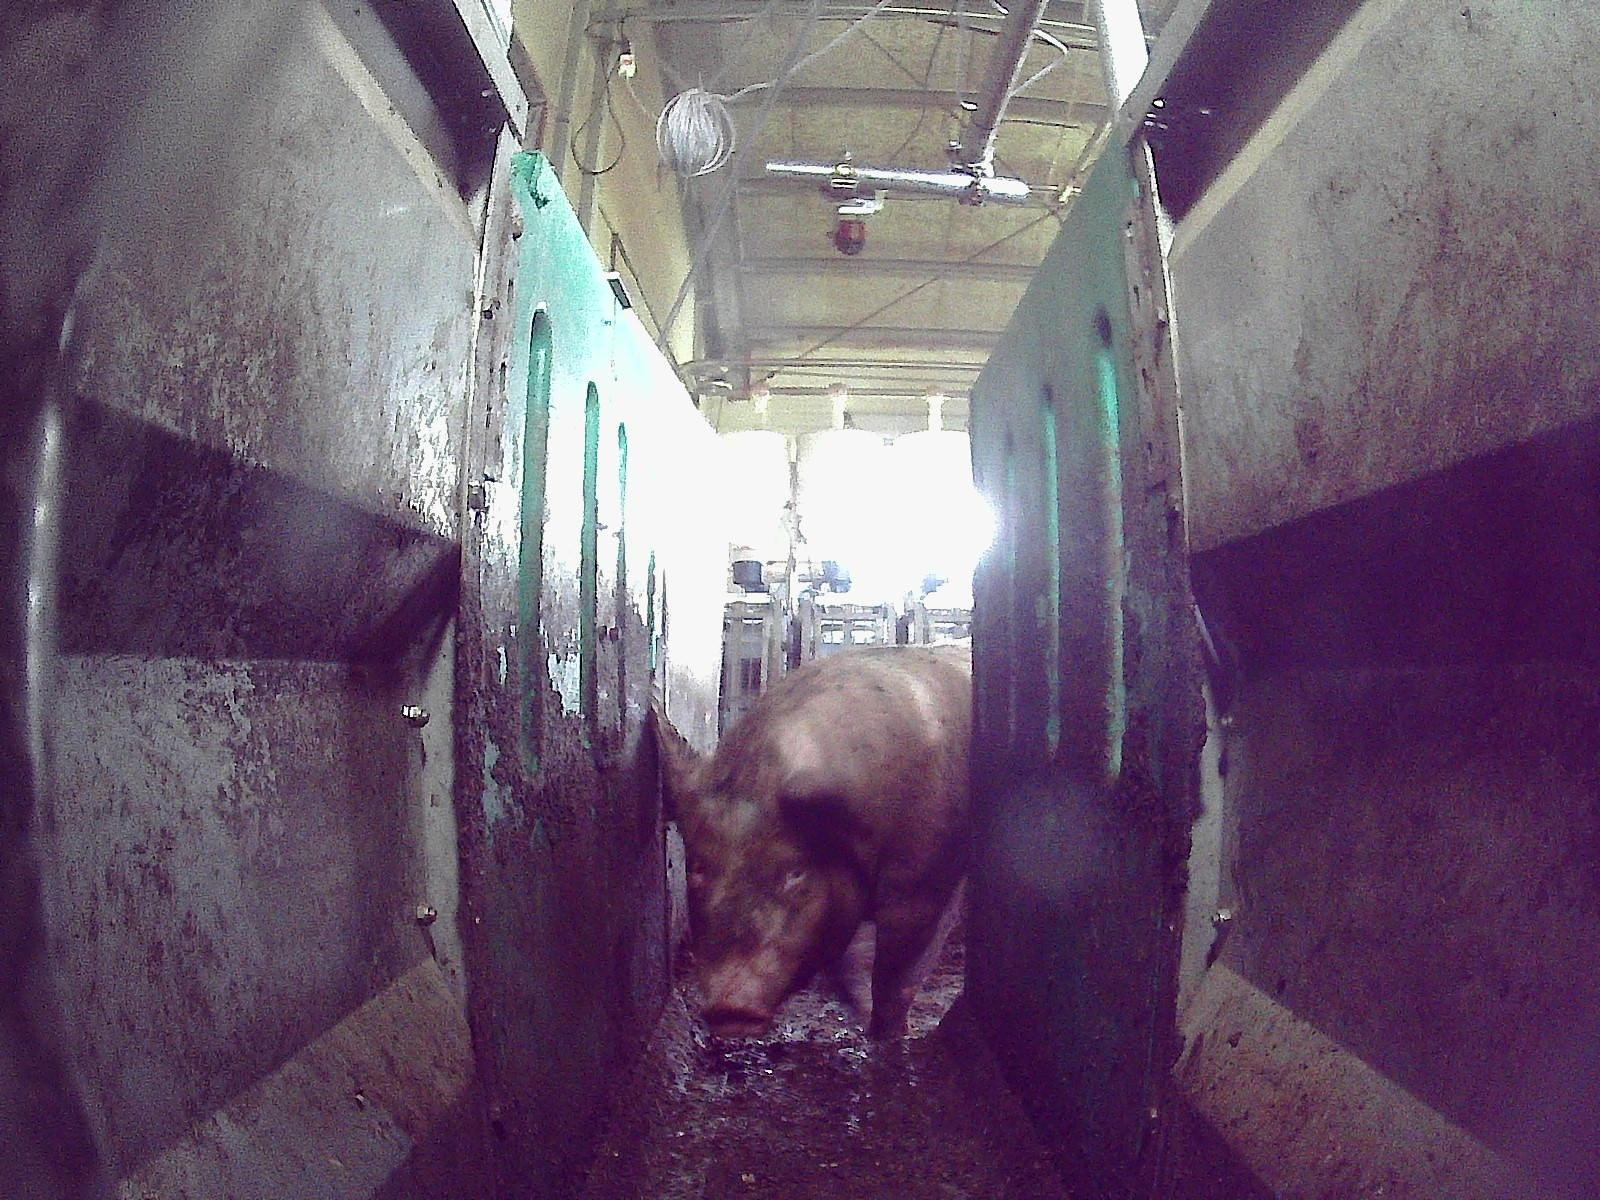Face: (673, 792, 842, 1037)
